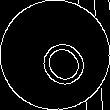O_NW: (22, 22, 88, 88)
